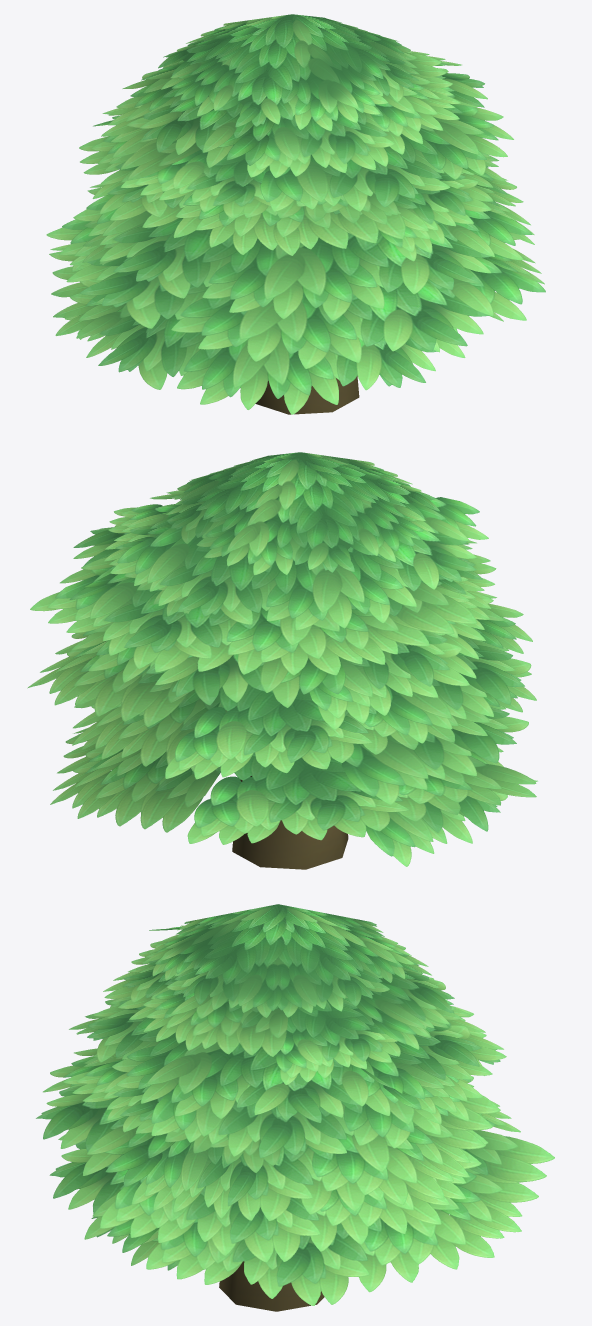
File: Shrub_01a.fbx
The picture shows the model from 3 angles, top to bottom: view 1: azimuth 30°, elevation 25°; view 2: azimuth 150°, elevation 25°; view 3: azimuth 270°, elevation 25°; orthographic projection. The views are drawn at different scales.
Parts seen in each view (by area): view 1: Shrub_01a; view 2: Shrub_01a; view 3: Shrub_01a.
Boxes of the visible parts, box(x1,y1,x2,y2) form: Shrub_01a: box(46, 14, 545, 414); Shrub_01a: box(27, 452, 537, 869); Shrub_01a: box(36, 904, 554, 1311).
Size of the model in its own units: 299 by 232 by 314.
